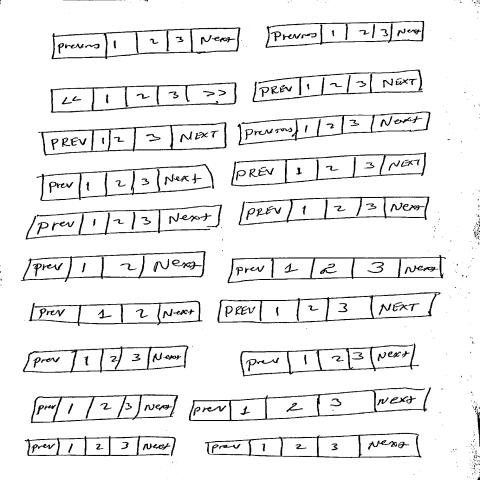Pagination: (187, 386, 431, 421), (215, 290, 441, 324), (23, 203, 222, 240), (236, 110, 431, 147), (228, 152, 428, 188), (38, 163, 215, 202), (39, 121, 228, 156), (225, 254, 444, 284), (50, 27, 240, 60), (19, 250, 206, 283), (238, 342, 416, 376), (49, 81, 237, 113), (237, 195, 431, 226), (251, 68, 423, 102), (205, 432, 422, 458), (21, 344, 189, 373), (28, 300, 201, 326), (264, 20, 424, 48), (29, 394, 178, 424), (25, 435, 177, 456)
